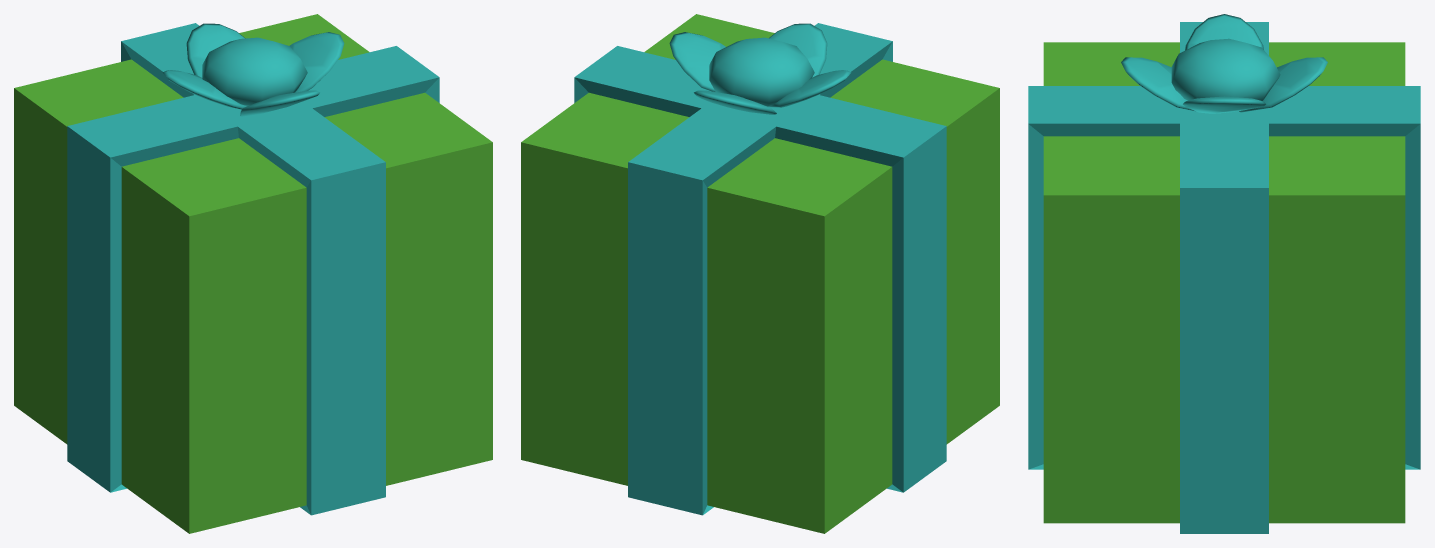
The model's file is Decoration_Present1.fbx.
3 views of the same model, side by side, from view 1: azimuth 30°, elevation 25°; view 2: azimuth 150°, elevation 25°; view 3: azimuth 270°, elevation 25° (orthographic). The views are drawn at different scales.
Visible parts, largest first — view 1: Decoration_Present1; view 2: Decoration_Present1; view 3: Decoration_Present1.
Part boxes in pixels (x1,y1,x2,y2): Decoration_Present1: [14, 14, 492, 533]; Decoration_Present1: [521, 14, 999, 533]; Decoration_Present1: [1028, 14, 1420, 533].
Bounding box in the file's own units: 0.2172 × 0.2468 × 0.2172.
